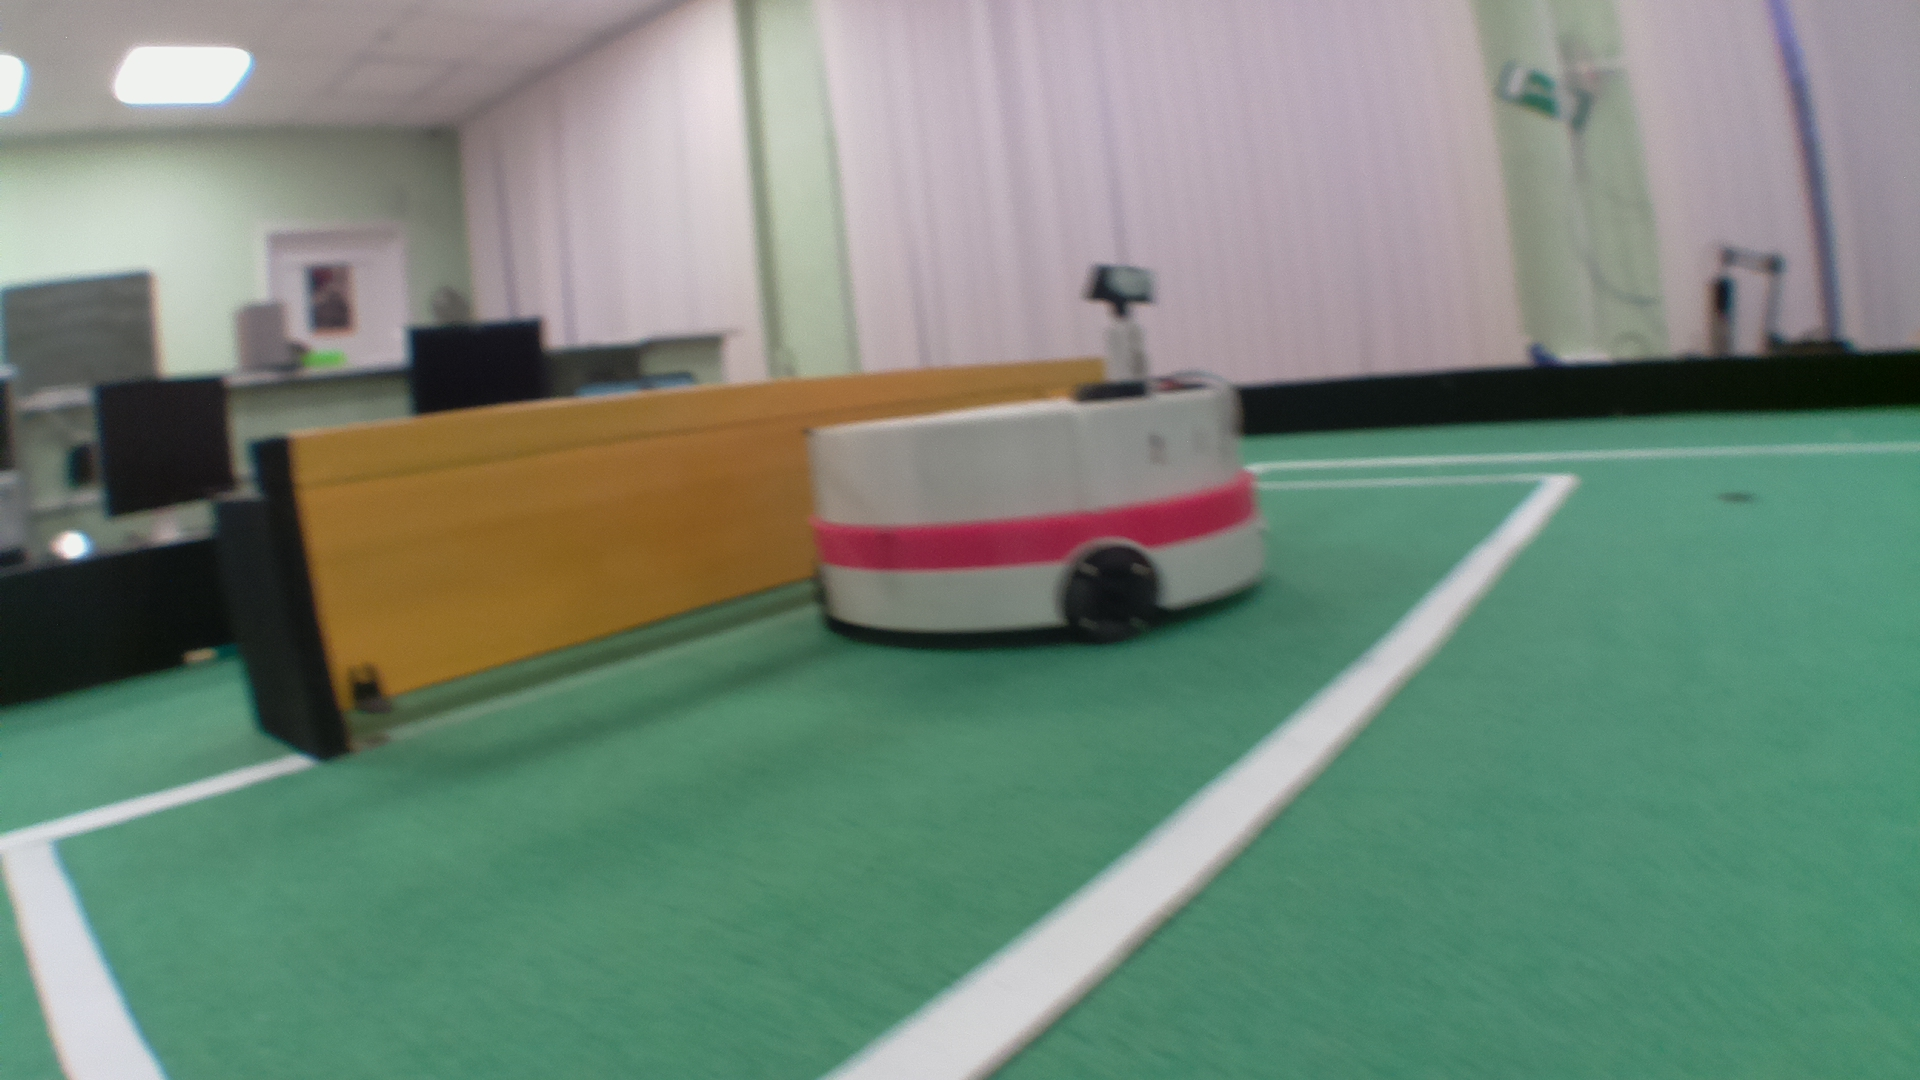YellowGoal: (284, 380, 857, 692)
